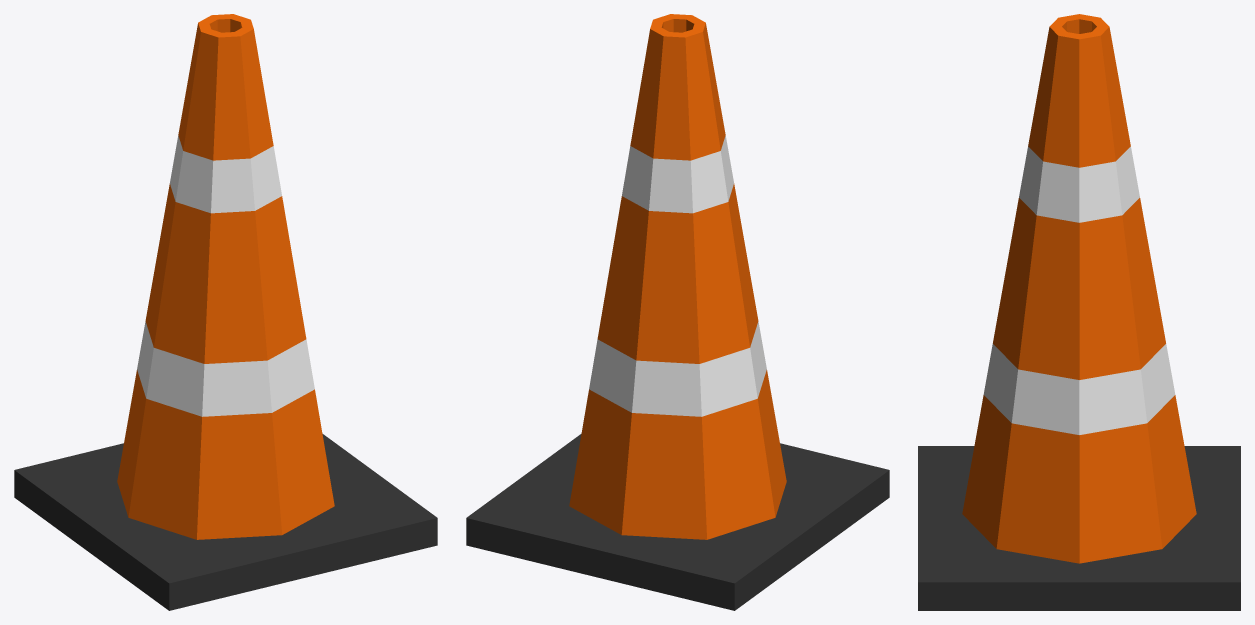
3 renders of one model, left to right at view 1: azimuth 30°, elevation 25°; view 2: azimuth 150°, elevation 25°; view 3: azimuth 270°, elevation 25°, orthographic. The views are drawn at different scales.
Parts seen in each view (by area): view 1: pCone1; view 2: pCone1; view 3: pCone1.
Boxes of the visible parts, x1,y1,x2,y2 form: pCone1: (14, 14, 437, 610); pCone1: (466, 14, 889, 610); pCone1: (918, 14, 1240, 610).
Bounding box in the file's own units: 1.76 × 3.11 × 1.76.
